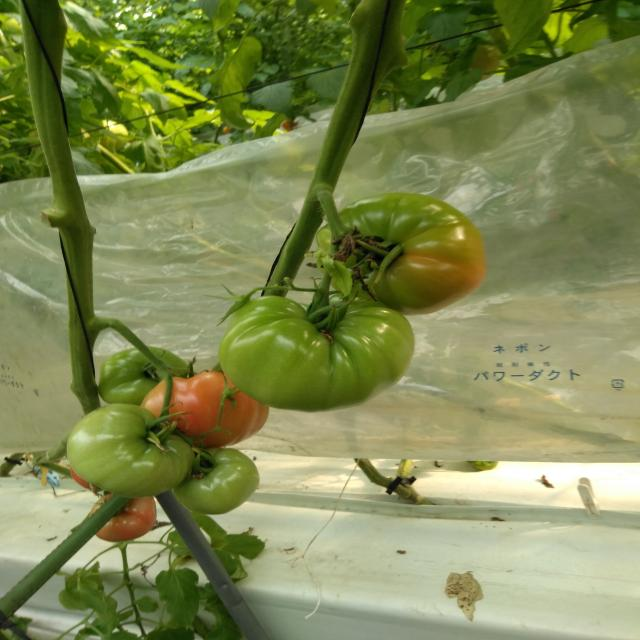yesil: (230, 174, 466, 426)
